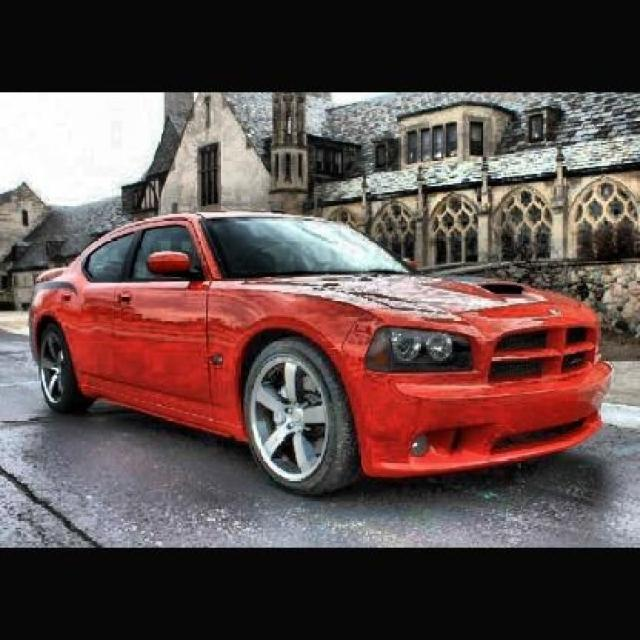red: (21, 206, 640, 472)
